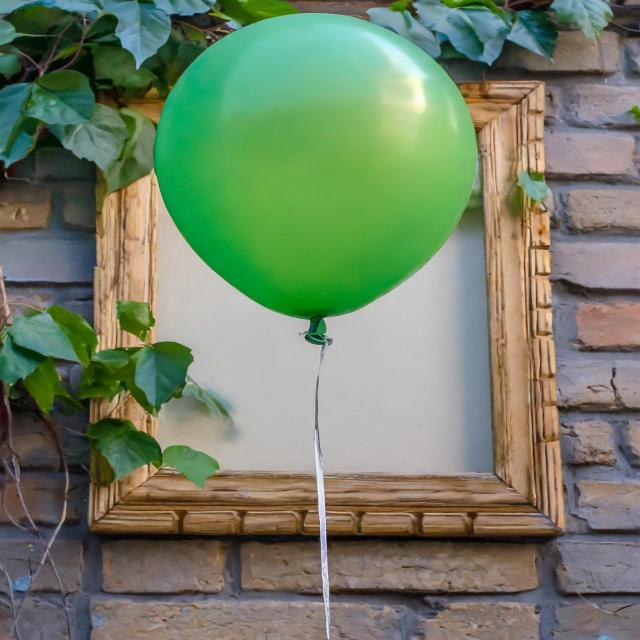green: (157, 14, 480, 333)
